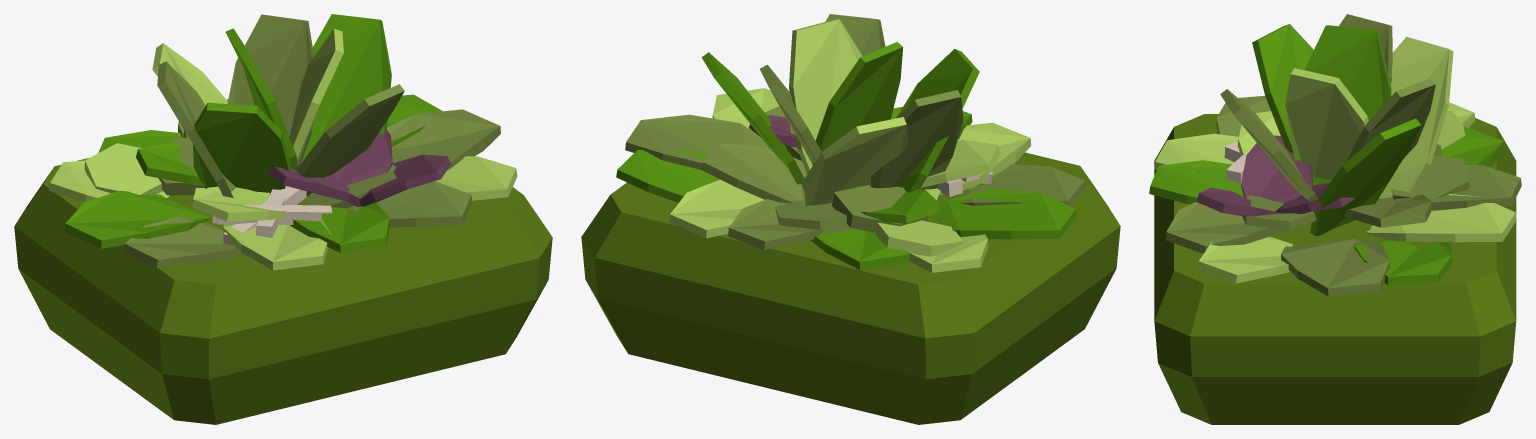
The model's file is SM_Cook_HerbPile_Small_01.obj.
3 renders of one model, left to right at view 1: azimuth 30°, elevation 25°; view 2: azimuth 150°, elevation 25°; view 3: azimuth 270°, elevation 25°, orthographic.
Parts seen in each view (by area): view 1: SM_Cook_HerbPile_Small_01; view 2: SM_Cook_HerbPile_Small_01; view 3: SM_Cook_HerbPile_Small_01.
Boxes of the visible parts, box(x1,y1,x2,y2) form: SM_Cook_HerbPile_Small_01: box(14, 14, 552, 424); SM_Cook_HerbPile_Small_01: box(581, 14, 1120, 424); SM_Cook_HerbPile_Small_01: box(1149, 14, 1521, 424).
Bounding box in the file's own units: 0.2746 × 0.1821 × 0.208.
1 material, 1 textured.
